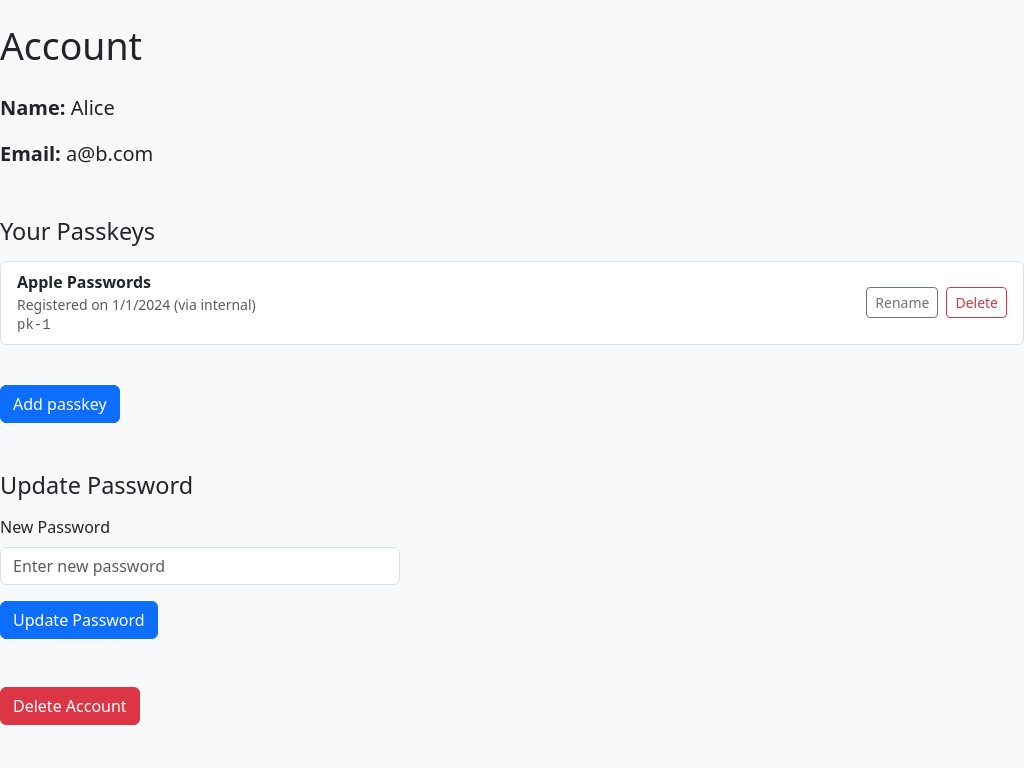
Scenario: AccountPage — reauthentication › reports a failed reauthentication and does not replay the operation
Step 1. Click the button with aria-label "Delete Apple Passwords" → (977, 303), box [946, 288, 1007, 318]
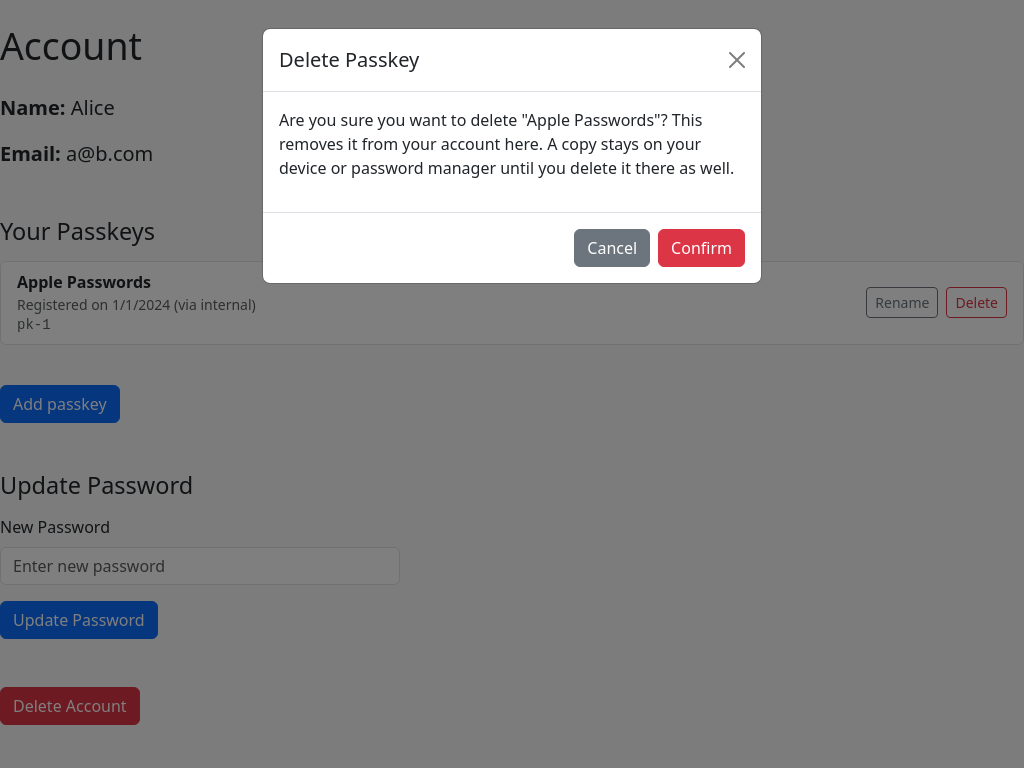
Step 2. Click the button "Confirm" → (702, 248), box [658, 229, 745, 267]
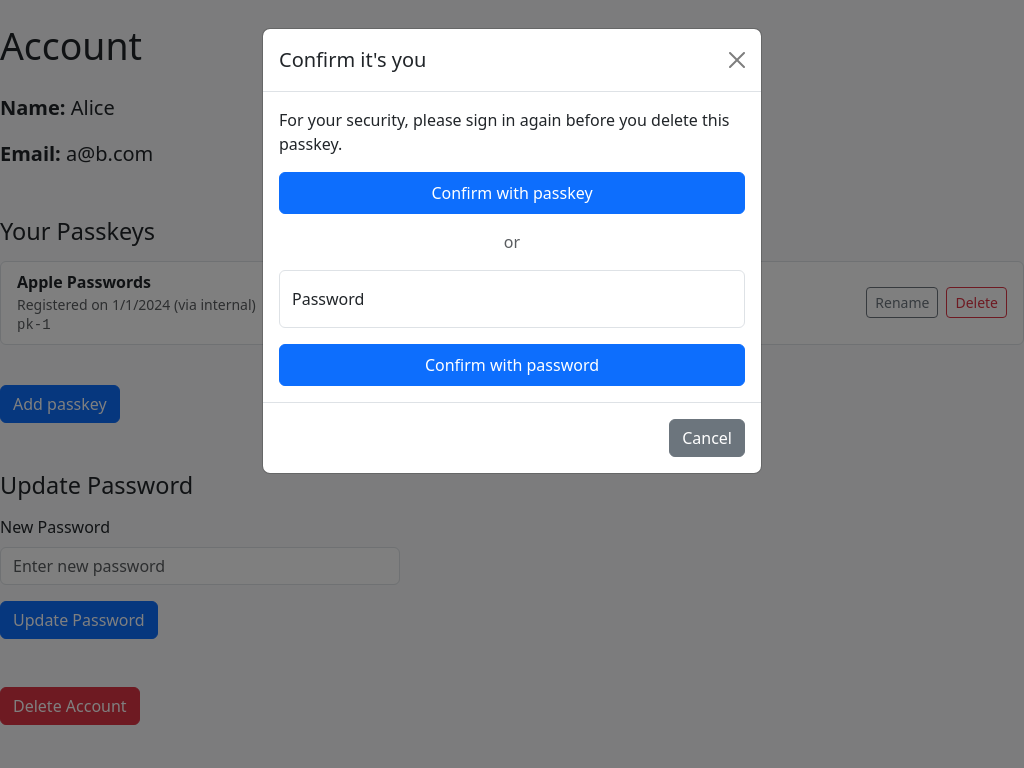
Expected: the password field labelled "Password" is shown
Step 3. Type "wrong" into the password field labelled "Password" → (512, 299), box [279, 270, 745, 328]
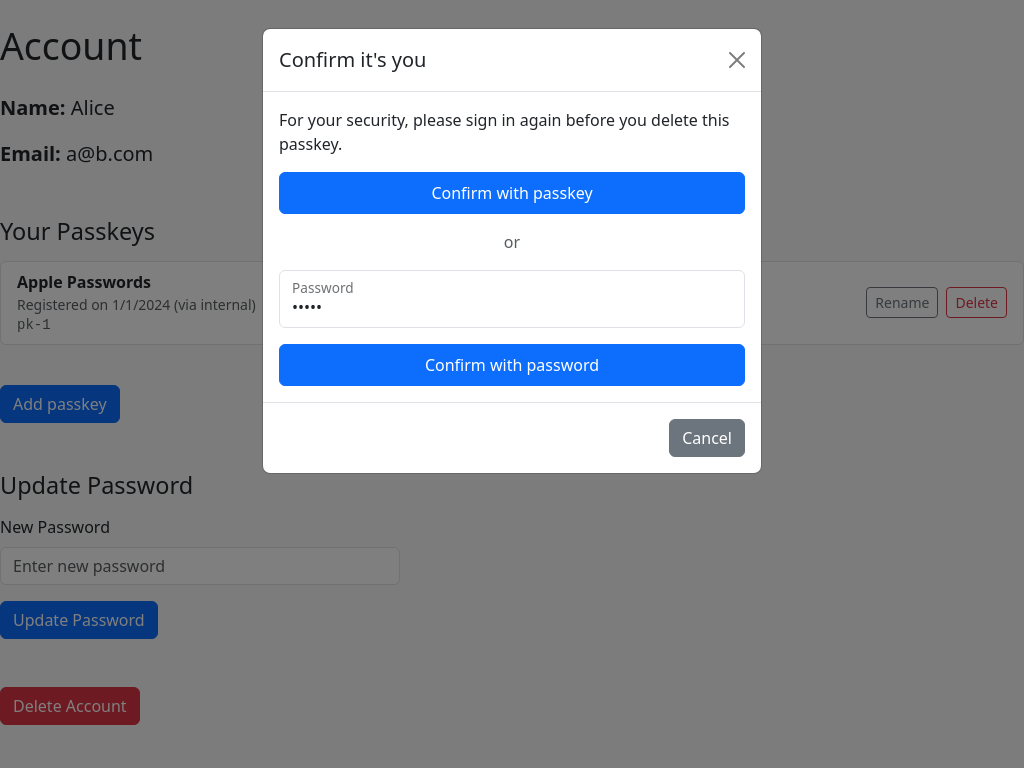
Step 4. Click the button "Confirm with password" → (512, 365), box [279, 344, 745, 386]
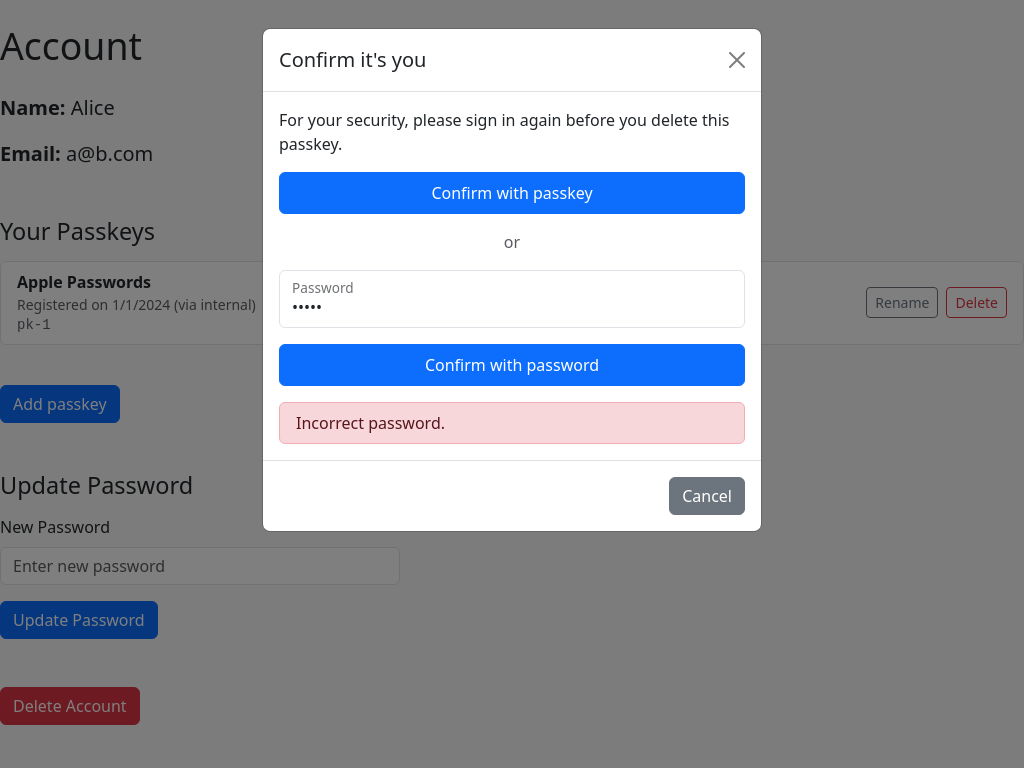
Expected: the text "Incorrect password." is shown, [279, 402, 745, 444]
